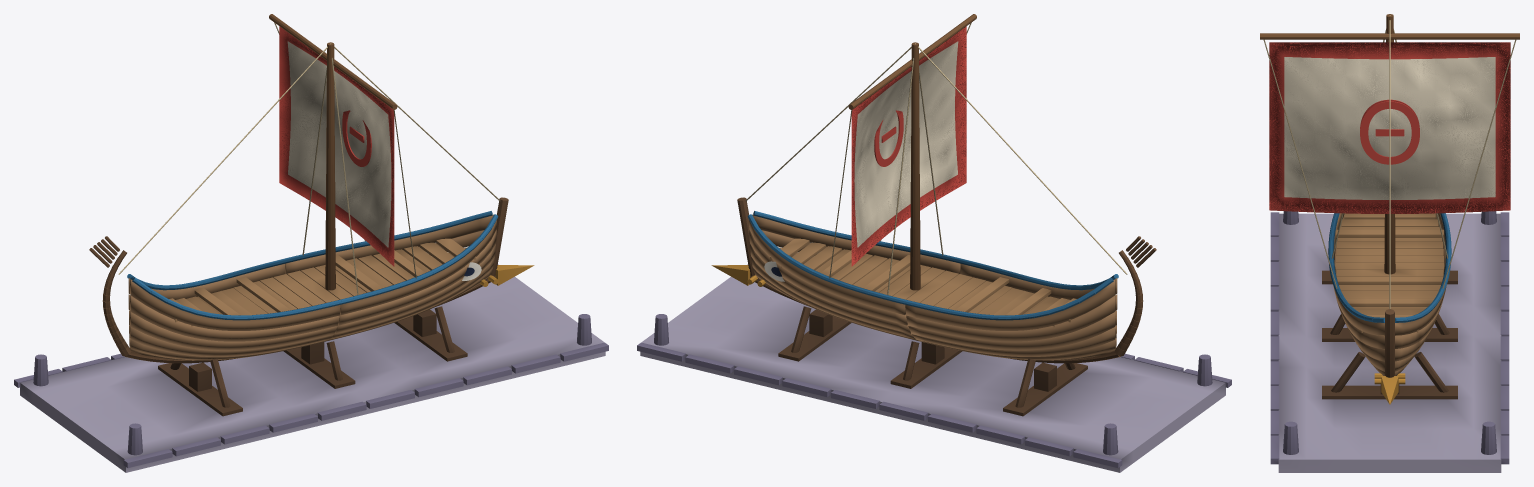
Rendered from theseus.glb.
3 renders of one model, left to right at view 1: azimuth 30°, elevation 25°; view 2: azimuth 150°, elevation 25°; view 3: azimuth 270°, elevation 25°, orthographic. The views are drawn at different scales.
Parts seen in each view (by area): view 1: th_dock, th_sail, th_deck, th_cradle, th_gunwale, th_mast, th_plank_10, th_plank_08, th_keel, th_plank_06, th_rigging, th_plank_23 (+8 smaller); view 2: th_dock, th_sail, th_deck, th_cradle, th_gunwale, th_mast, th_plank_22, th_plank_20, th_keel, th_plank_18, th_rigging, th_plank_11 (+8 smaller); view 3: th_dock, th_sail, th_deck, th_cradle, th_mast, th_emblem, th_rigging, th_gunwale, th_keel, th_ram, th_plank_11, th_plank_23 (+4 smaller).
Part boxes in pixels (x1,y1,x2,y2): th_dock: [14, 264, 608, 472]; th_sail: [279, 26, 394, 266]; th_deck: [169, 238, 475, 326]; th_cradle: [158, 306, 467, 416]; th_gunwale: [127, 211, 498, 320]; th_mast: [269, 14, 397, 290]; th_plank_10: [130, 279, 340, 330]; th_plank_08: [130, 295, 339, 341]; th_keel: [89, 197, 508, 363]; th_plank_06: [130, 311, 337, 350]; th_rigging: [118, 22, 500, 295]; th_plank_23: [285, 214, 493, 273]; th_dock: [637, 264, 1231, 472]; th_sail: [851, 26, 966, 266]; th_deck: [770, 238, 1076, 326]; th_cradle: [778, 306, 1087, 416]; th_gunwale: [747, 211, 1118, 320]; th_mast: [848, 14, 976, 290]; th_plank_22: [905, 279, 1115, 330]; th_plank_20: [906, 295, 1115, 341]; th_keel: [737, 197, 1156, 363]; th_plank_18: [908, 311, 1115, 350]; th_rigging: [745, 22, 1127, 295]; th_plank_11: [752, 214, 960, 273]; th_dock: [1270, 211, 1509, 472]; th_sail: [1269, 42, 1510, 213]; th_deck: [1336, 213, 1443, 332]; th_cradle: [1322, 270, 1457, 399]; th_mast: [1260, 14, 1519, 274]; th_emblem: [1360, 99, 1419, 164]; th_rigging: [1263, 15, 1516, 308]; th_gunwale: [1328, 213, 1451, 322]; th_keel: [1385, 309, 1394, 377]; th_ram: [1374, 373, 1405, 404]; th_plank_11: [1333, 286, 1384, 335]; th_plank_23: [1395, 286, 1446, 335].
Bounding box in the file's own units: 9.44 × 6.14 × 4.2.
